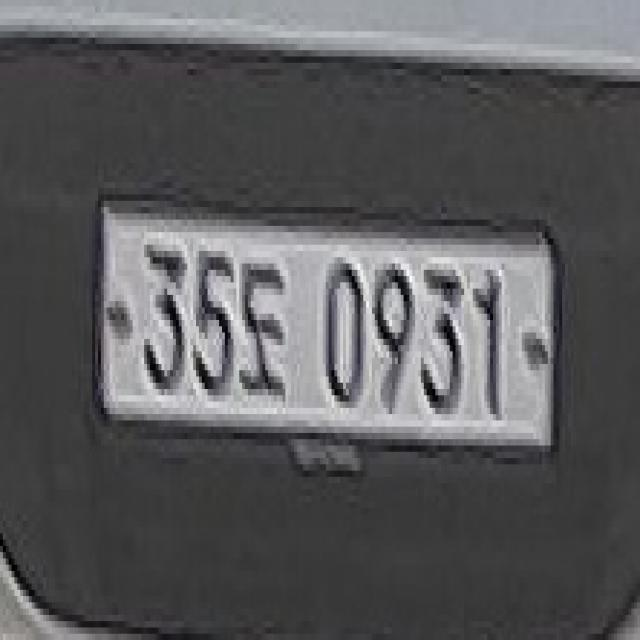0: (320, 251, 366, 420)
1: (476, 269, 502, 426)
3: (418, 264, 467, 414), (144, 245, 185, 395)
5: (194, 245, 236, 395)
9: (369, 251, 415, 414)
do: (240, 251, 288, 395)
license_plate: (89, 188, 556, 464)
